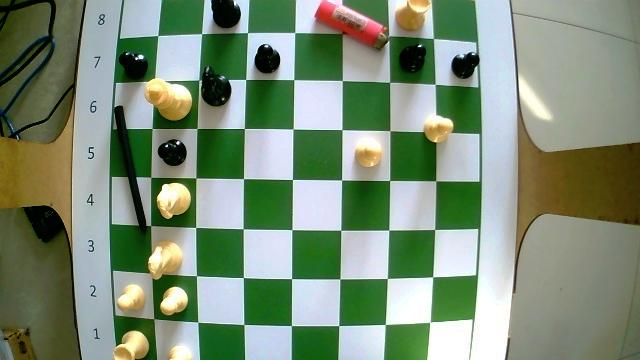piece: (145, 78, 191, 120), (148, 241, 182, 279), (200, 66, 230, 106), (156, 183, 189, 218), (396, 0, 429, 30), (115, 332, 148, 359), (423, 115, 453, 142), (355, 137, 381, 167), (211, 0, 239, 27), (119, 52, 148, 78), (161, 287, 187, 315), (158, 139, 186, 165), (254, 45, 279, 72), (451, 52, 478, 77), (116, 284, 144, 308), (400, 45, 425, 71), (168, 345, 192, 359)
